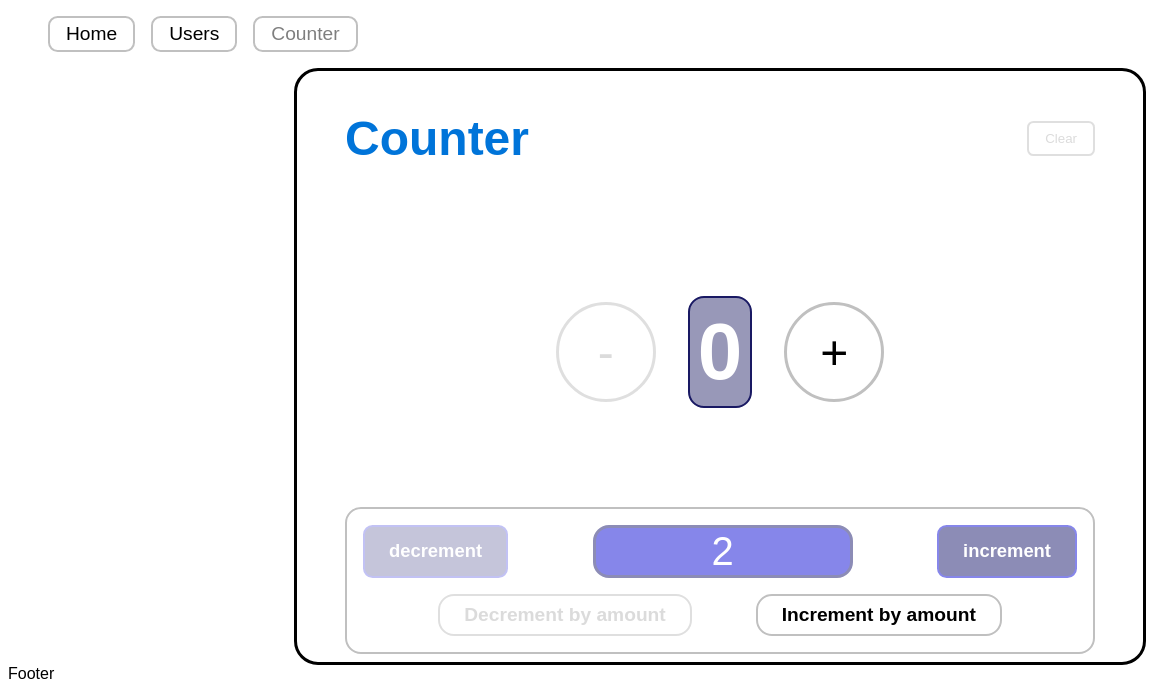
Test: Test Notification › Test notification elements › Test status field
The image size is (1163, 696).
Click the heading with test id "global-counter-value" at (720, 352), box [688,296,752,408]
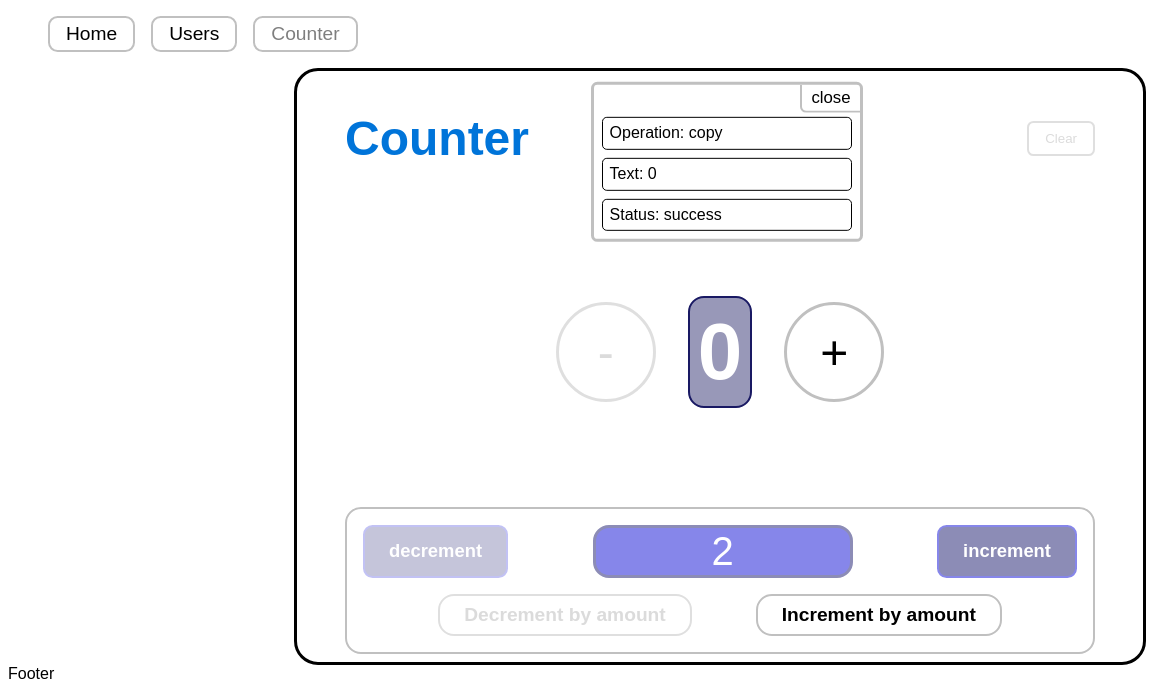
expect the number of elements with test id "notification-box__value" is 3: met, box [602,117,852,150]; [602,158,852,190]; [602,198,852,231]
expect the text with test id "notification-box__value" reads "Status: success": met, box [602,198,852,231]
